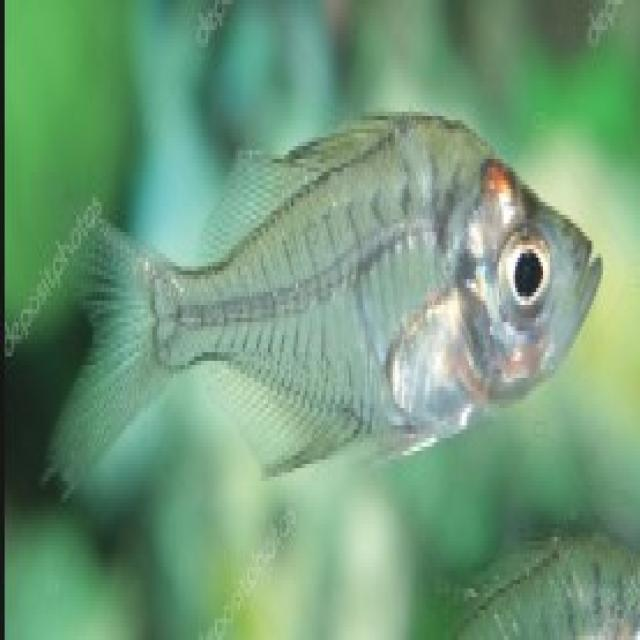Glass-Perchlet: (9, 83, 640, 596)
